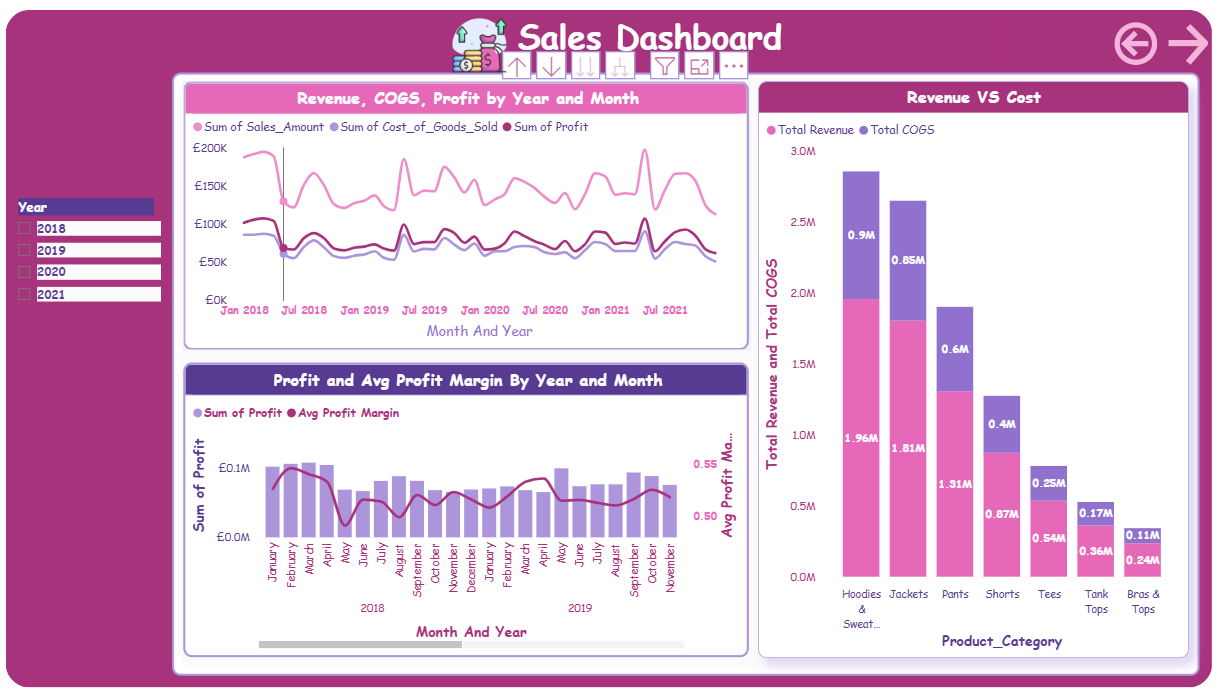

The page's visual inventory and layout, read from the dashboard file:
{"tool":"powerbi","page":{"name":"Product Analysis 2","canvas":[1400,800],"ordinal":2},"visuals":[{"type":"shape","box":[10.6,12.1,1378.8,774.2],"z":0},{"type":"shape","box":[200,83.3,1174.2,689.4],"z":1000},{"type":"textbox","title":"Sales Dashboard","box":[337.9,15.2,815.2,53],"z":2000},{"type":"lineClusteredColumnComboChart","title":" Profit and Avg Profit Margin By Year and Month","fields":{"Category":["Calender.Date.Variation.Date Hierarchy.Year","Calender.Date.Variation.Date Hierarchy.Month"],"Y":["Sum(Orders.Profit)"],"Y2":["Calculations.Avg Profit Margin"]},"box":[213.3,414.4,646.7,337],"z":3000},{"type":"lineChart","title":"Revenue, COGS, Profit by Year and Month","fields":{"Y":["Sum(Orders.Sales_Amount)","Sum(Orders.Cost_of_Goods_Sold)","Sum(Orders.Profit)"],"Category":["Calender.Date.Variation.Date Hierarchy.Year","Calender.Date.Variation.Date Hierarchy.Month"]},"box":[213.3,92.4,646.7,307.1],"z":4000},{"type":"slicer","fields":{"Values":["Calender.Date.Variation.Date Hierarchy.Year"]},"box":[10.9,221.5,180.7,163],"z":5000},{"type":"columnChart","title":"Revenue VS Cost","fields":{"Y":["Calculations.Total Revenue","Calculations.Total COGS"],"Category":["Unique Products.Product_Category"]},"box":[869.6,92.4,491.9,659],"z":6000},{"type":"image","box":[515.7,11.4,71.4,80],"z":9000},{"type":"actionButton","box":[1224.3,8.6,118.6,82.9],"z":10000},{"type":"actionButton","box":[1320,22.9,80,55.7],"z":11000}]}

Visuals, with their boxes in screenshot pixels (x1, y1, x2, y2), scaled from the page's 1400x800 canvas onto the 1221x697 screenshot:
shape: (left=9, top=11, right=1212, bottom=685)
shape: (left=174, top=73, right=1198, bottom=673)
"Sales Dashboard" textbox: (left=295, top=13, right=1006, bottom=59)
" Profit and Avg Profit Margin By Year and Month" lineClusteredColumnComboChart: (left=186, top=361, right=750, bottom=655)
"Revenue, COGS, Profit by Year and Month" lineChart: (left=186, top=81, right=750, bottom=348)
slicer - Calender.Date.Variation.Date Hierarchy.Year: (left=10, top=193, right=167, bottom=335)
"Revenue VS Cost" columnChart: (left=758, top=81, right=1187, bottom=655)
image: (left=450, top=10, right=512, bottom=80)
actionButton: (left=1068, top=7, right=1171, bottom=80)
actionButton: (left=1151, top=20, right=1220, bottom=68)
